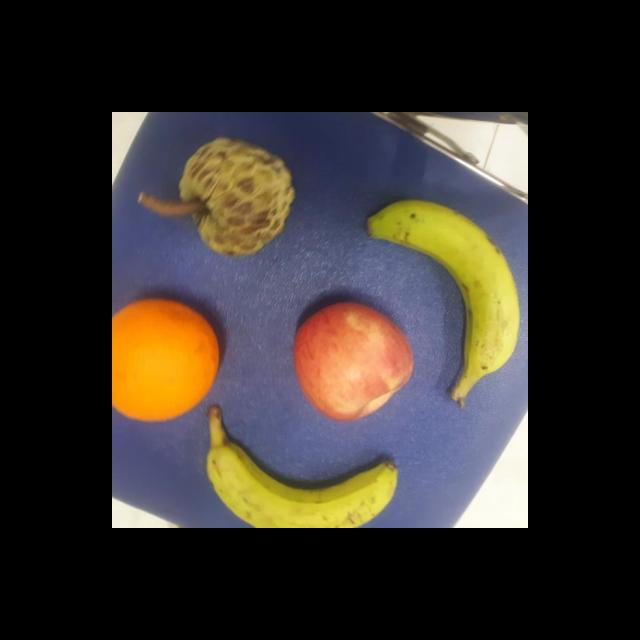Sakya fruit: (176, 137, 298, 255)
apple: (292, 291, 418, 424)
banana: (366, 195, 524, 403), (209, 433, 401, 528)
orange: (112, 292, 229, 424)
